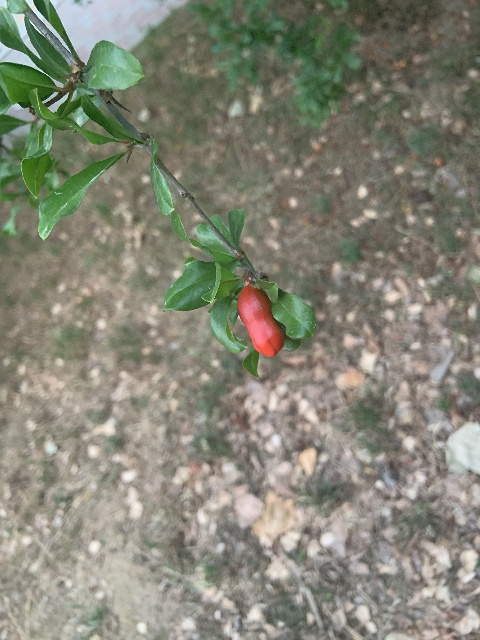bud: (238, 284, 284, 358)
